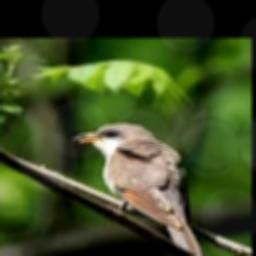Cuckoo: (73, 123, 209, 256)
